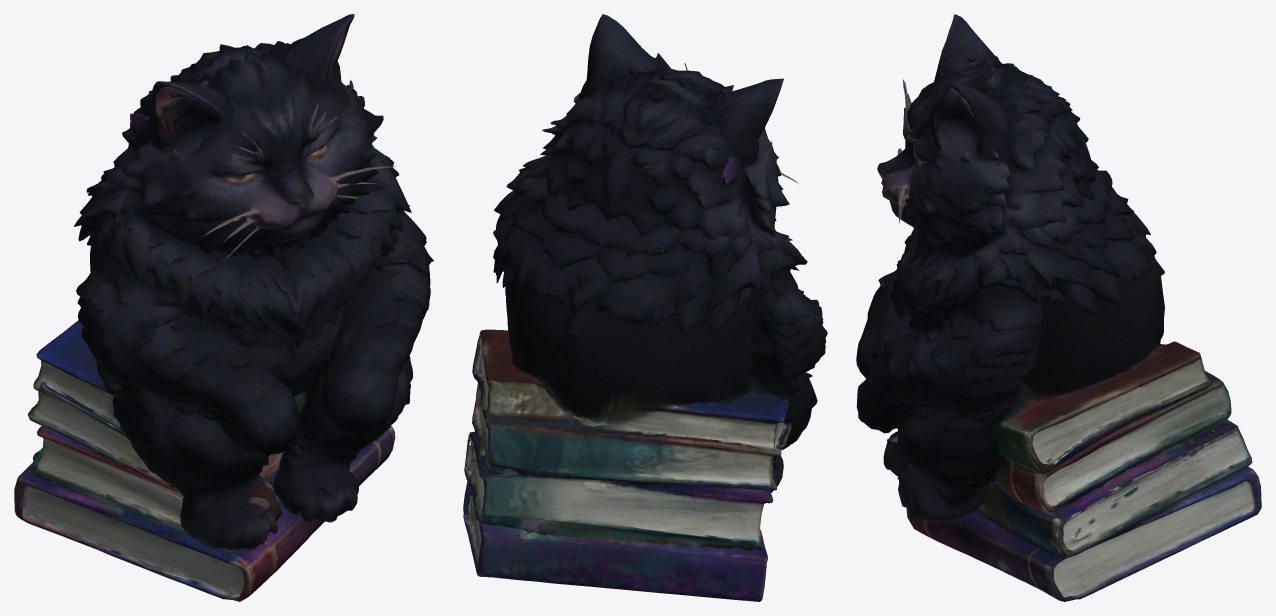
Rendered from presto_pet.glb.
3 views of the same model, side by side, from view 1: azimuth 30°, elevation 25°; view 2: azimuth 150°, elevation 25°; view 3: azimuth 270°, elevation 25° (orthographic). The views are drawn at different scales.
Size of the model in its own units: 0.5991 by 0.8897 by 0.6425.
Materials: 1 (1 with a texture image).
